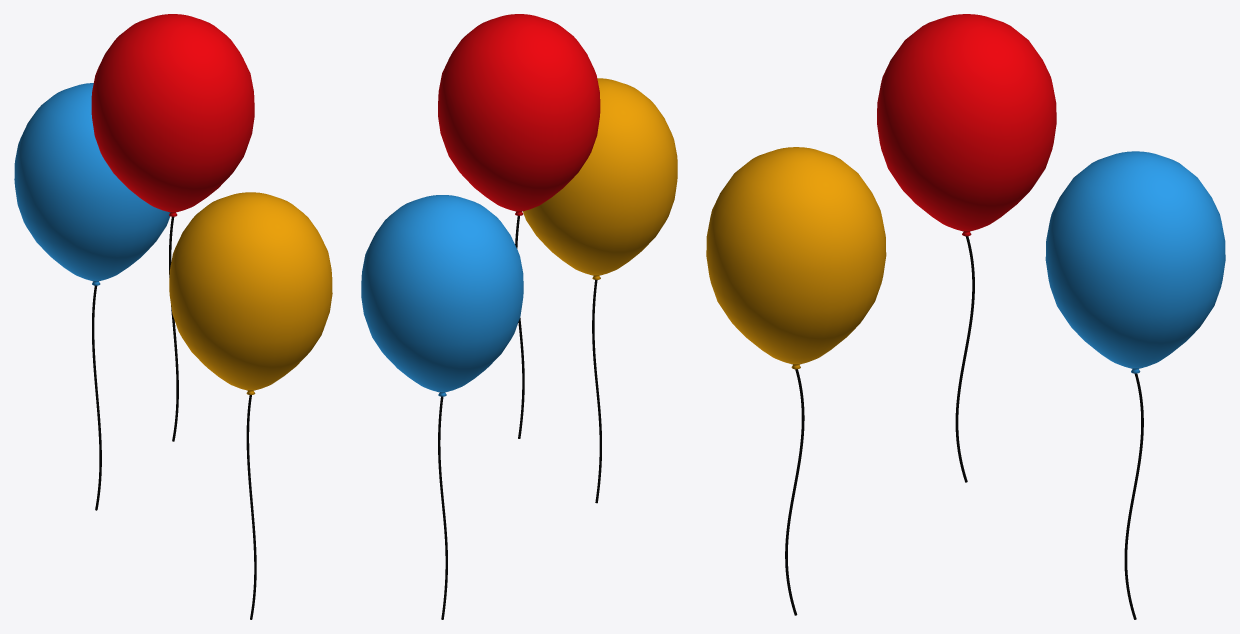
The model's file is balloons.glb.
3 renders of one model, left to right at view 1: azimuth 30°, elevation 25°; view 2: azimuth 150°, elevation 25°; view 3: azimuth 270°, elevation 25°, orthographic. The views are drawn at different scales.
Visible parts, largest first — view 1: Sphere.001, Sphere, Sphere.002, NurbsPath.001, NurbsPath.002, NurbsPath; view 2: Sphere.002, Sphere, Sphere.001, NurbsPath.001, NurbsPath.002, NurbsPath; view 3: Sphere.001, Sphere.002, Sphere, NurbsPath.001, NurbsPath.002, NurbsPath.
Part boxes in pixels (left/top/right/bottom): Sphere.001: left=169, top=192, right=332, bottom=394; Sphere: left=91, top=14, right=254, bottom=216; Sphere.002: left=14, top=83, right=170, bottom=285; NurbsPath.001: left=246, top=395, right=256, bottom=619; NurbsPath.002: left=92, top=285, right=101, bottom=510; NurbsPath: left=169, top=217, right=178, bottom=441; Sphere.002: left=361, top=195, right=523, bottom=396; Sphere: left=438, top=14, right=600, bottom=215; Sphere.001: left=523, top=78, right=677, bottom=279; NurbsPath.001: left=592, top=280, right=601, bottom=503; NurbsPath.002: left=438, top=396, right=447, bottom=619; NurbsPath: left=515, top=216, right=524, bottom=438; Sphere.001: left=706, top=147, right=886, bottom=369; Sphere.002: left=1045, top=151, right=1225, bottom=373; Sphere: left=877, top=14, right=1056, bottom=236; NurbsPath.001: left=785, top=369, right=804, bottom=615; NurbsPath.002: left=1124, top=373, right=1143, bottom=619; NurbsPath: left=955, top=236, right=974, bottom=482.
Size of the model in its own units: 2.62 by 9.66 by 7.6.
